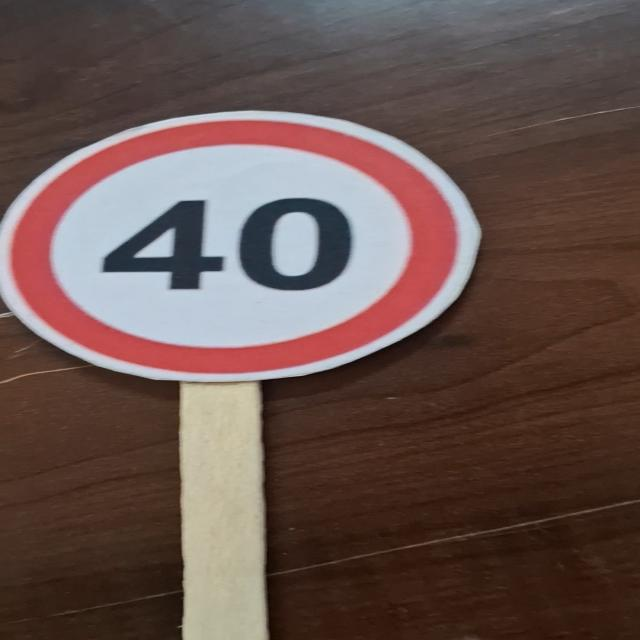Speed40: (0, 106, 485, 383)
